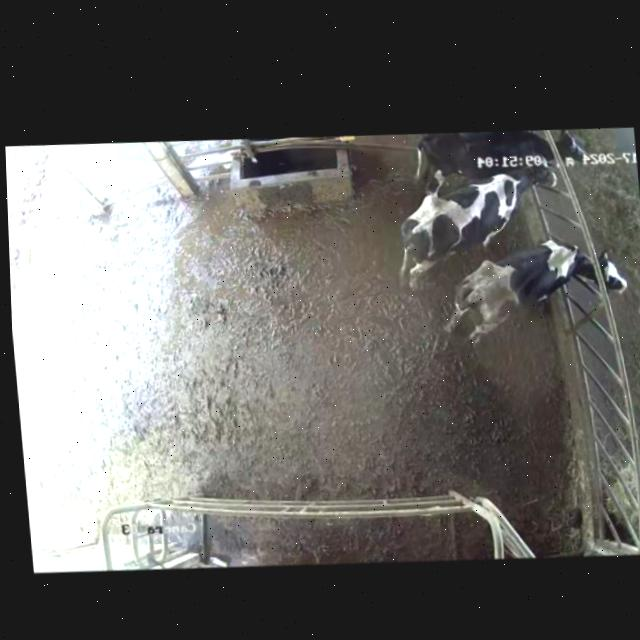eat: (543, 227, 640, 305), (498, 124, 614, 183)
stand: (368, 155, 566, 282)
